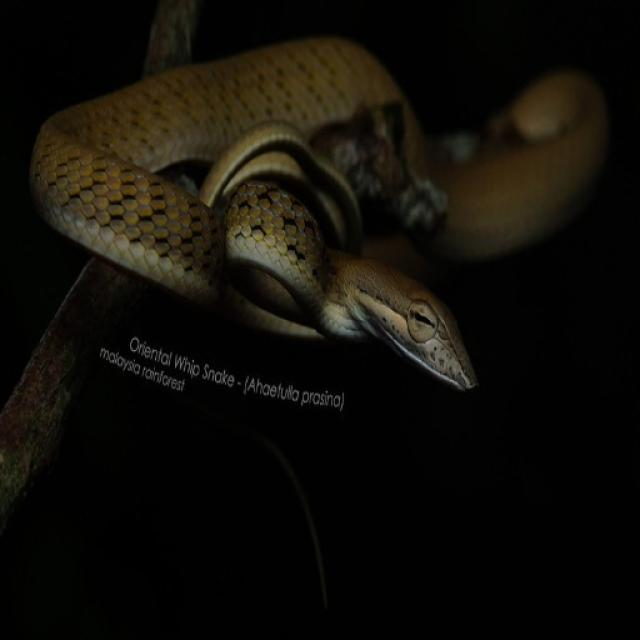snake: (18, 34, 554, 404)
